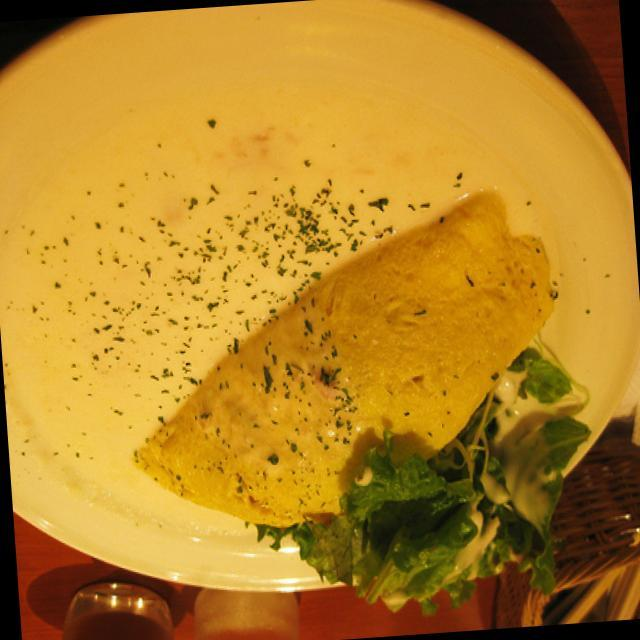Omelet: (119, 178, 573, 546)
